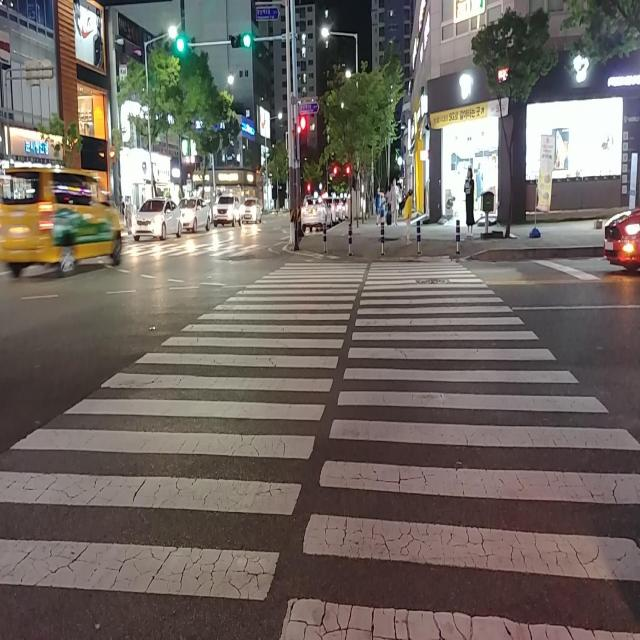빨간불: (300, 115, 308, 158)
횡단보도: (1, 255, 639, 637)
